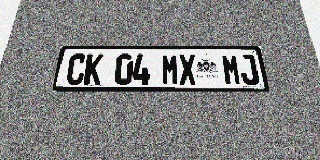0: (114, 54, 133, 85)
4: (132, 54, 150, 85)
C: (65, 54, 87, 85)
J: (238, 54, 260, 85)
K: (83, 54, 104, 85)
M: (221, 54, 242, 85), (162, 54, 179, 85)
X: (179, 54, 197, 85)
